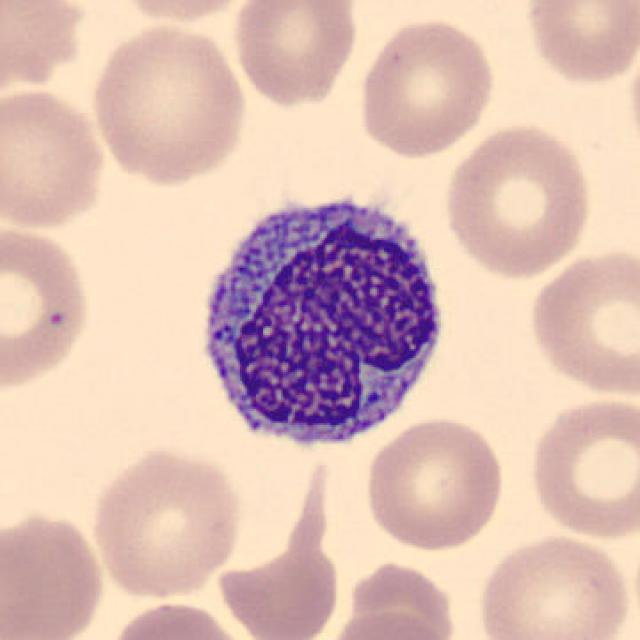Monocyte: (186, 178, 458, 462)
RBC: (85, 19, 252, 189), (85, 441, 247, 603), (439, 118, 597, 280), (354, 12, 499, 160), (361, 414, 508, 554), (471, 529, 635, 640), (524, 244, 638, 401), (524, 391, 638, 543), (0, 218, 96, 398), (0, 83, 110, 233), (227, 0, 362, 109), (0, 506, 108, 640), (218, 541, 343, 640), (519, 0, 638, 88), (343, 557, 461, 640), (0, 0, 92, 104), (103, 597, 250, 640), (318, 606, 458, 640), (105, 0, 267, 26)
